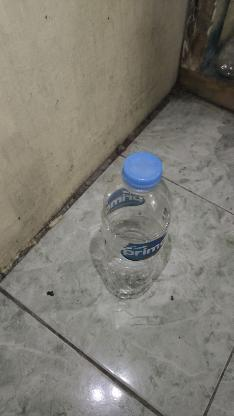Plastic Bottle: (96, 150, 173, 301)
